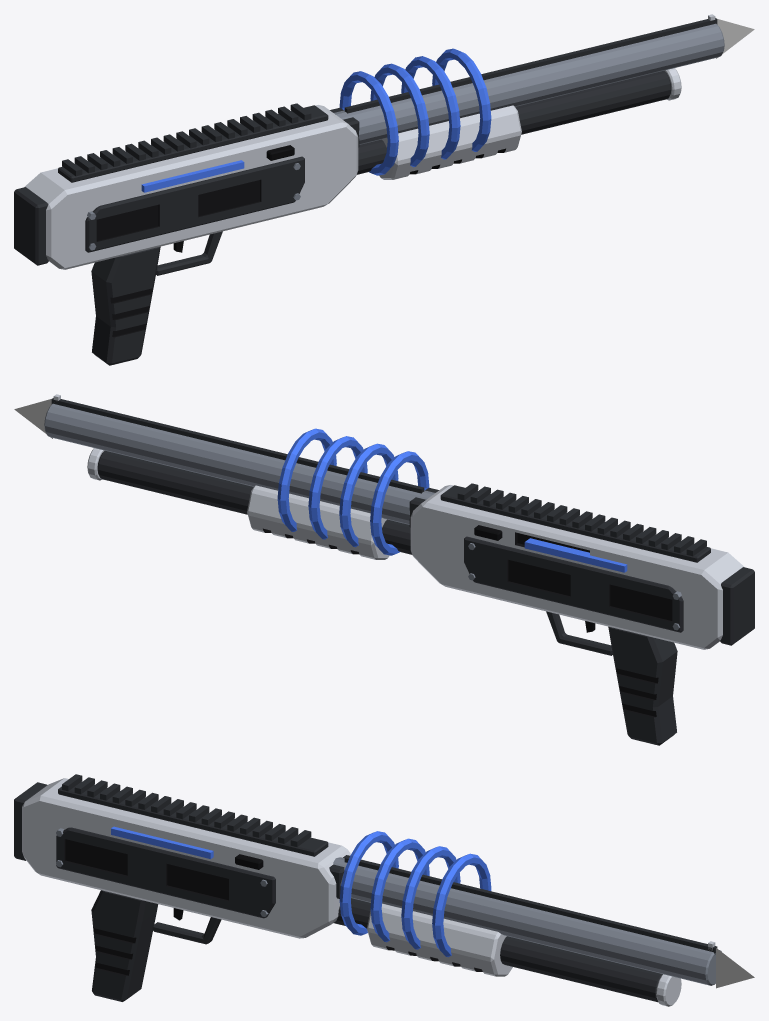
File: ion_shotgun42.obj
3 renders of one model, top to bottom at view 1: azimuth 30°, elevation 25°; view 2: azimuth 150°, elevation 25°; view 3: azimuth 330°, elevation 25°, orthographic.
Visible parts, largest first — view 1: body, barrel, pump, muzzle_0; view 2: body, barrel, pump, muzzle_0; view 3: body, barrel, pump, muzzle_0.
Part boxes in pixels (<box>): body: <box>14,48,491,365</box>; barrel: <box>334,14,724,174</box>; pump: <box>379,105,521,179</box>; muzzle_0: <box>716,19,754,58</box>; body: <box>277,428,754,745</box>; barrel: <box>44,394,434,554</box>; pump: <box>247,485,389,559</box>; muzzle_0: <box>14,399,52,438</box>; body: <box>14,774,491,1001</box>; barrel: <box>333,856,721,1006</box>; pump: <box>367,903,512,976</box>; muzzle_0: <box>716,948,754,988</box>.
Size of the model in its own units: 0.6316 by 0.1822 by 0.0804.
